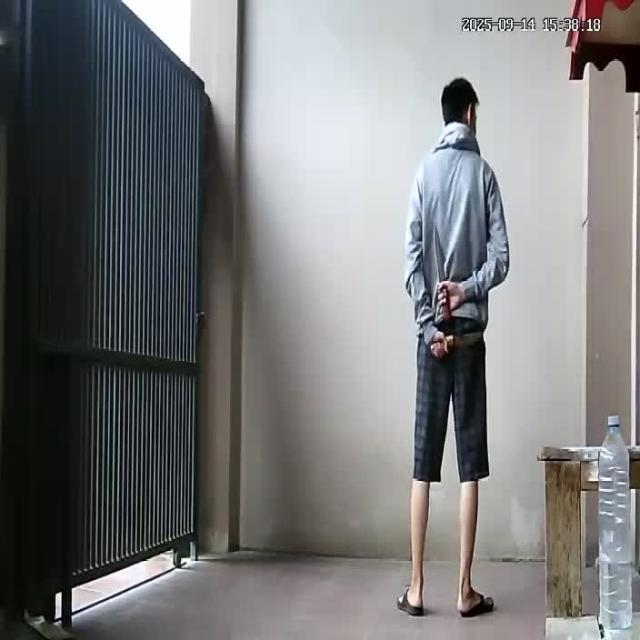senjata_tajam: (431, 224, 449, 283)
